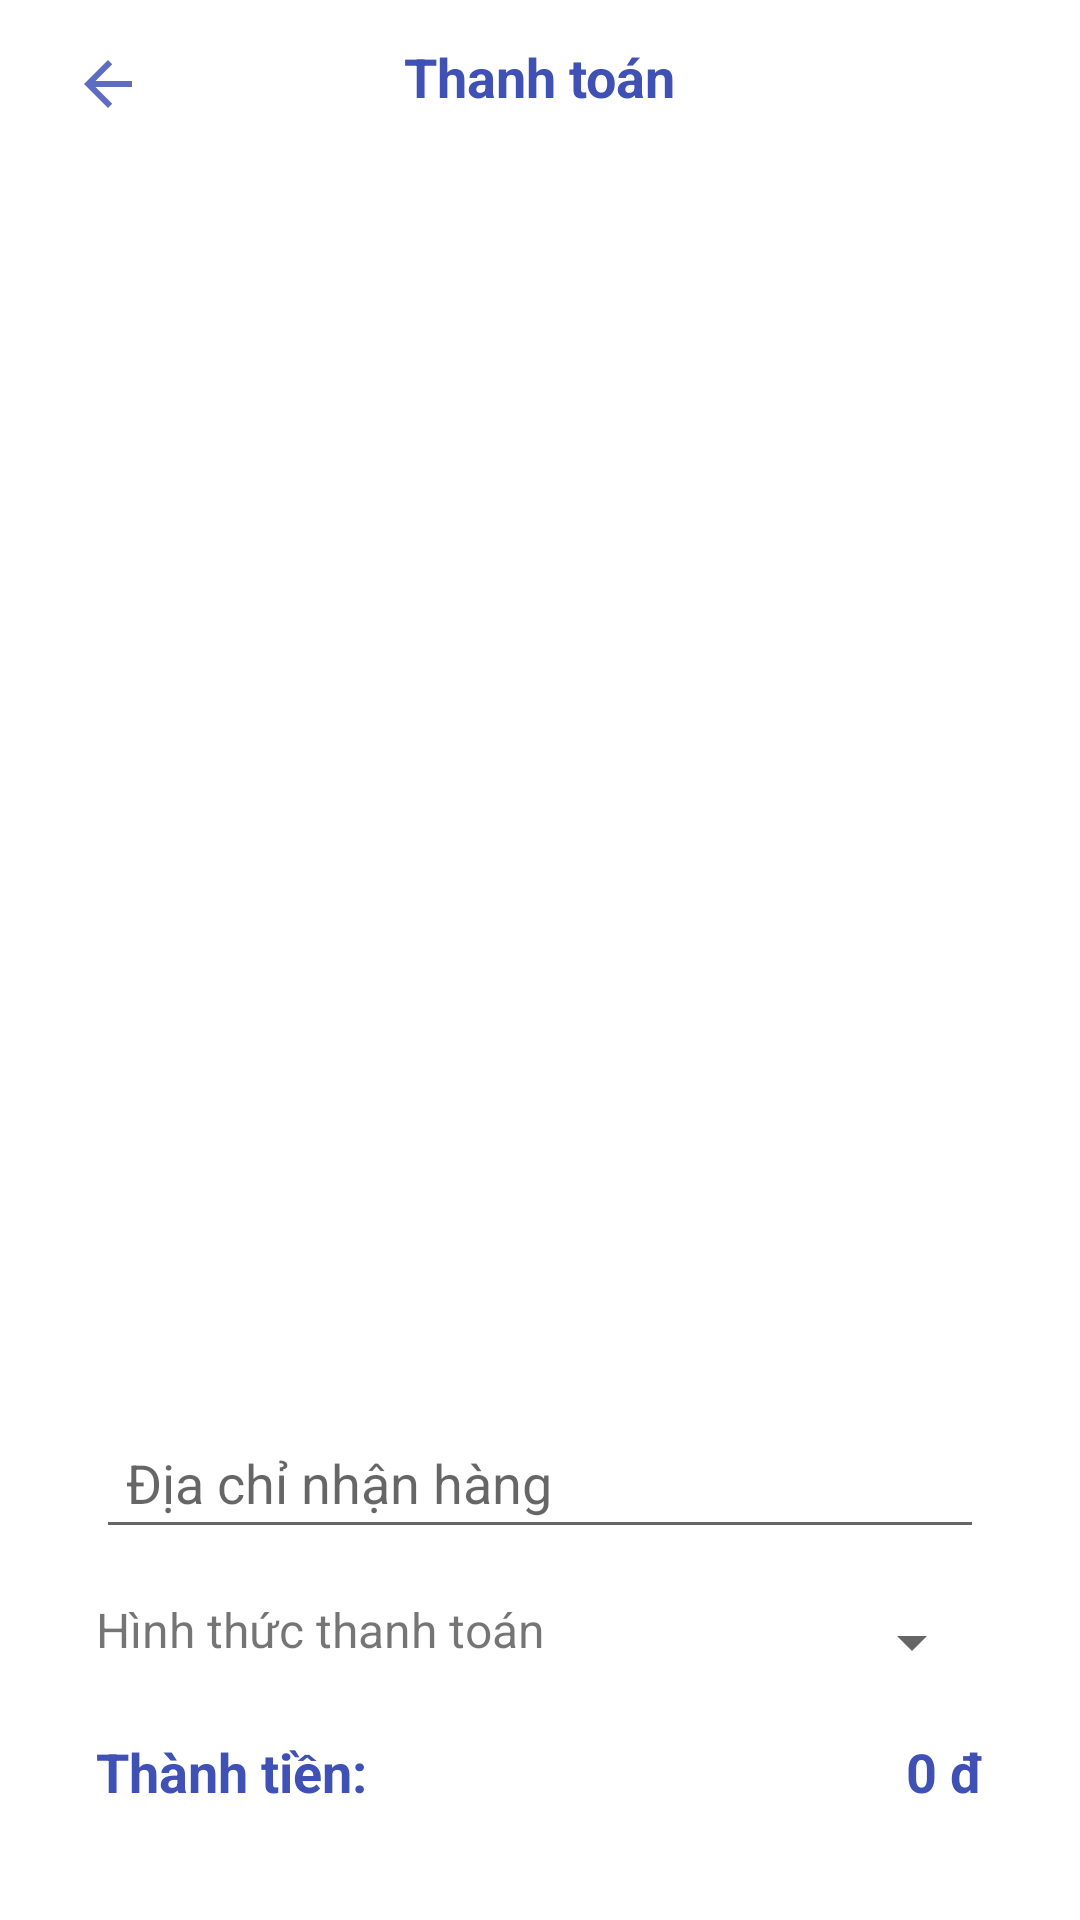

Named icons in this screenshot (1080px x 1920px) and their centers, (x,y):
arrow back: (108,84)
